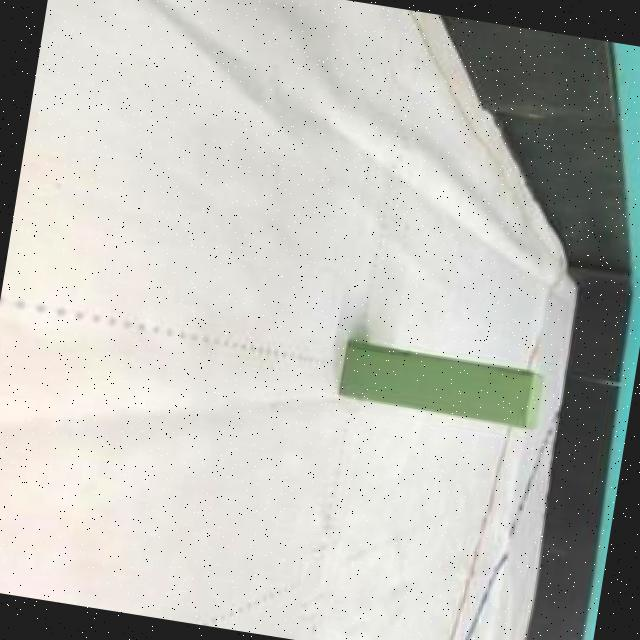greenbox: (335, 338, 546, 433)
